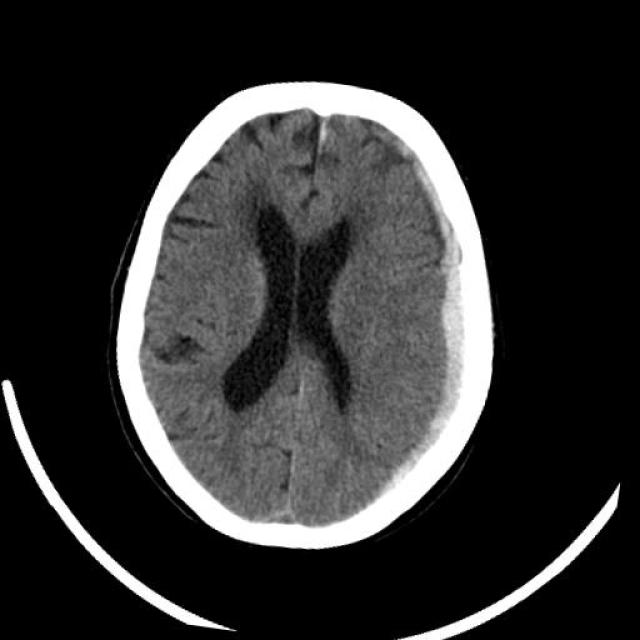Subdural: (317, 120, 534, 534)
